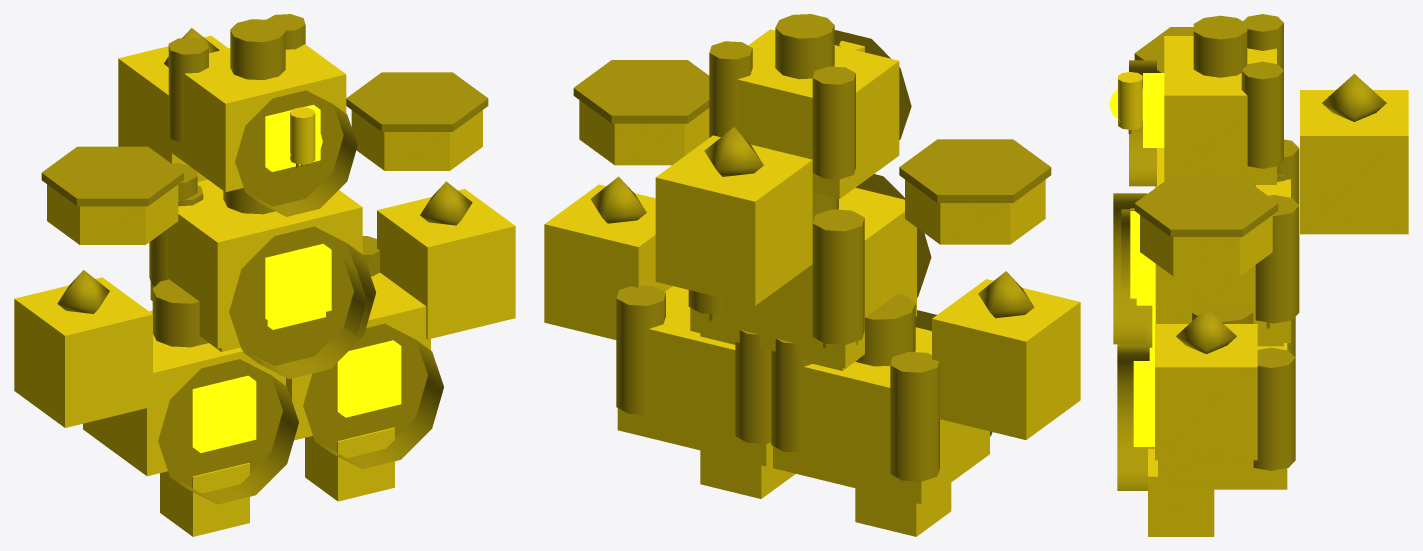
File: golem_070.glb
3 renders of one model, left to right at view 1: azimuth 30°, elevation 25°; view 2: azimuth 150°, elevation 25°; view 3: azimuth 270°, elevation 25°, orthographic. The views are drawn at different scales.
Visible parts, largest first — view 1: Body, Detail, Glow; view 2: Body, Detail; view 3: Body, Detail, Glow.
Part boxes in pixels (x1,y1,x2,y2): Body: (14,35,515,536); Detail: (41,14,488,504); Glow: (192,104,401,452); Body: (544,29,1080,536); Detail: (573,14,1051,481); Body: (1118,36,1408,536); Detail: (1113,14,1386,490); Glow: (1109,73,1164,446).
Bounding box in the file's own units: 1.55 × 1.5 × 0.8857.
